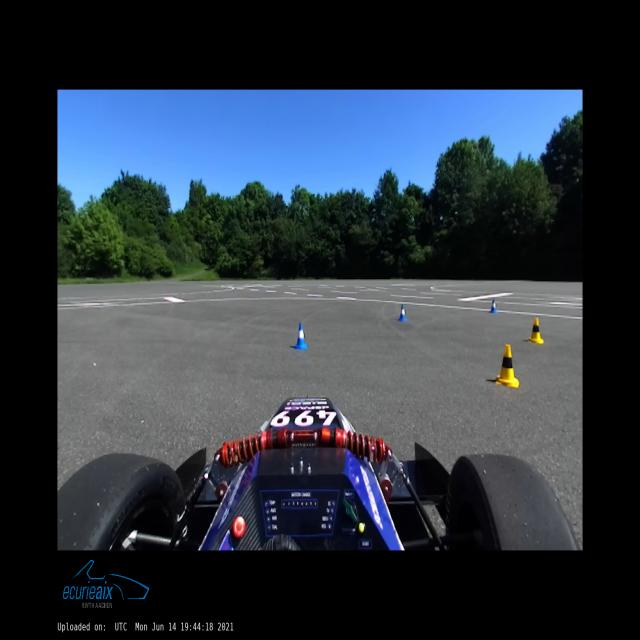blue_cone: (295, 322, 307, 348), (398, 305, 407, 321), (489, 299, 497, 313)
yellow_cone: (496, 344, 519, 388), (528, 318, 544, 344)
